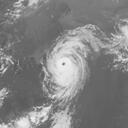cyclone: (40, 38, 90, 105)
